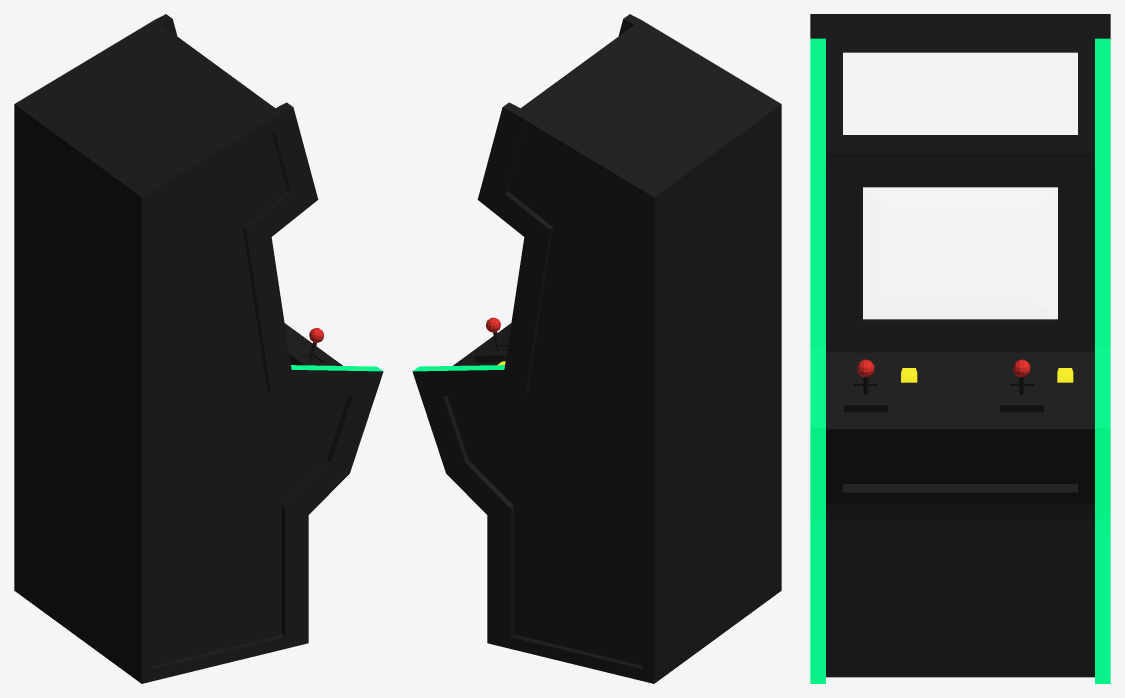
Rendered from arcade.gltf.
The picture shows the model from 3 angles, left to right: view 1: azimuth 30°, elevation 25°; view 2: azimuth 150°, elevation 25°; view 3: azimuth 270°, elevation 25°; orthographic projection. The views are drawn at different scales.
Parts seen in each view (by area): view 1: Arcade, Joystick; view 2: Arcade, Joystick.001; view 3: Arcade, Joystick, Joystick.001.
Boxes of the visible parts, <box> form: Arcade: <box>14,14,383,683</box>; Joystick: <box>289,328,334,365</box>; Arcade: <box>412,14,781,683</box>; Joystick.001: <box>474,317,508,362</box>; Arcade: <box>810,14,1110,683</box>; Joystick: <box>844,359,887,412</box>; Joystick.001: <box>1000,359,1043,412</box>.
Bounding box in the file's own units: 0.5443 × 1.16 × 0.4968.
